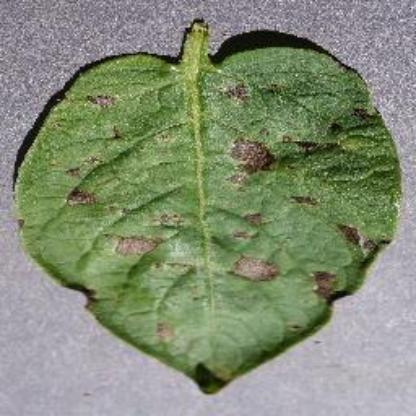Early-Blight: (15, 13, 402, 394)
